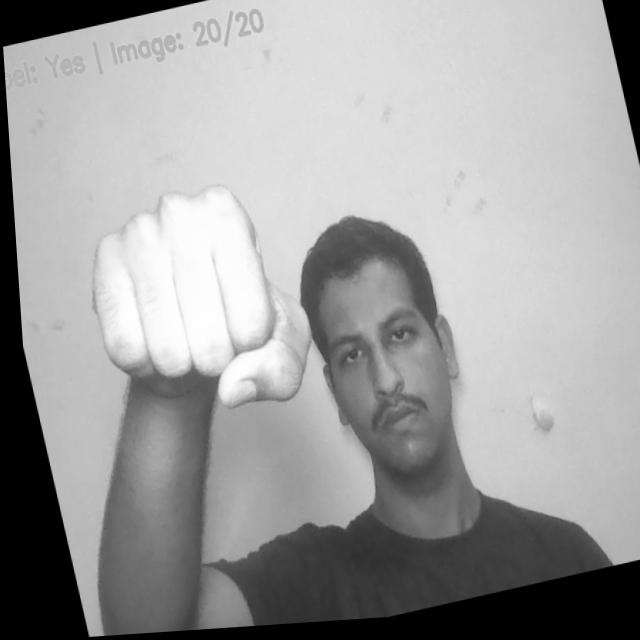Yes: (64, 170, 317, 451)
